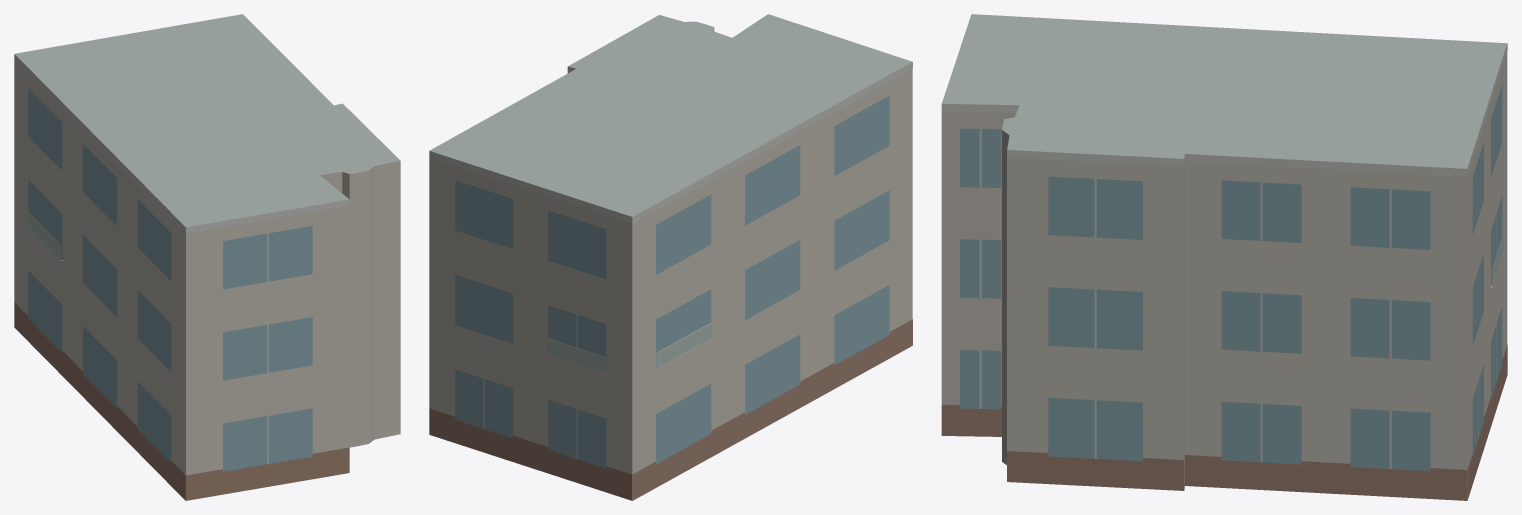
The model's file is survey-upis-32752858.glb.
3 views of the same model, side by side, from view 1: azimuth 30°, elevation 25°; view 2: azimuth 150°, elevation 25°; view 3: azimuth 270°, elevation 25° (orthographic). The views are drawn at different scales.
Parts seen in each view (by area): view 1: survey-upis-32752858.tmp; view 2: survey-upis-32752858.tmp; view 3: survey-upis-32752858.tmp.
Boxes of the visible parts, left/top/right/bottom form: survey-upis-32752858.tmp: left=14, top=14, right=400, bottom=500; survey-upis-32752858.tmp: left=429, top=14, right=912, bottom=500; survey-upis-32752858.tmp: left=941, top=14, right=1507, bottom=500.
Size of the model in its own units: 10.42 by 10.41 by 16.09.
